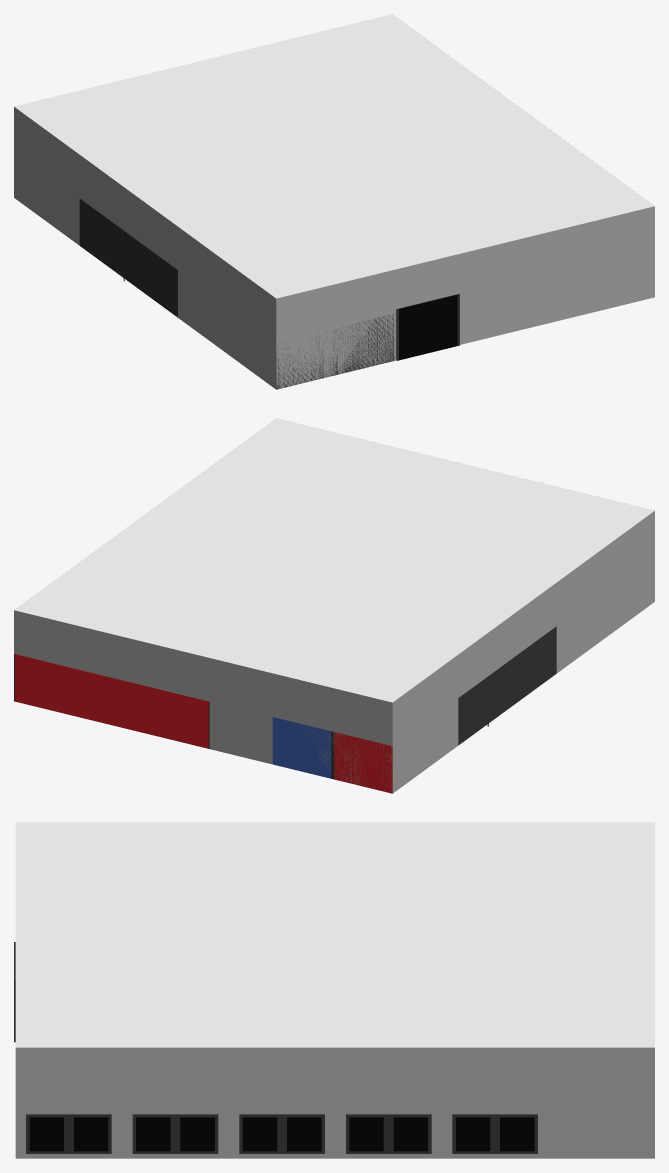
The model's file is Restaurant.glb.
The picture shows the model from 3 angles, top to bottom: view 1: azimuth 30°, elevation 25°; view 2: azimuth 150°, elevation 25°; view 3: azimuth 270°, elevation 25°; orthographic projection. The views are drawn at different scales.
Parts seen in each view (by area): view 1: I_Restaurant.001, I_Kitchen.001, I_Door2, I_Reception; view 2: I_Restaurant.001, I_Bar, I_Washroom, I_Kitchen.001; view 3: I_Restaurant.001, I_Window2.
Part boxes in pixels (x1,y1,x2,y2): I_Restaurant.001: (14,14,654,389); I_Kitchen.001: (79,198,177,317); I_Door2: (396,294,459,360); I_Reception: (276,314,394,389); I_Restaurant.001: (14,418,654,793); I_Bar: (14,654,209,748); I_Washroom: (272,717,392,793); I_Kitchen.001: (458,626,556,745); I_Restaurant.001: (15,822,654,1158); I_Window2: (26,1114,537,1153).
Bounding box in the file's own units: 50.1 × 12.78 × 60.15.
1 material, 1 textured.
